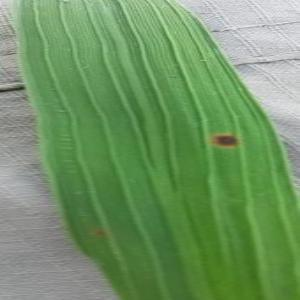0 BrownSpot: (201, 124, 245, 155), (88, 224, 110, 241)
